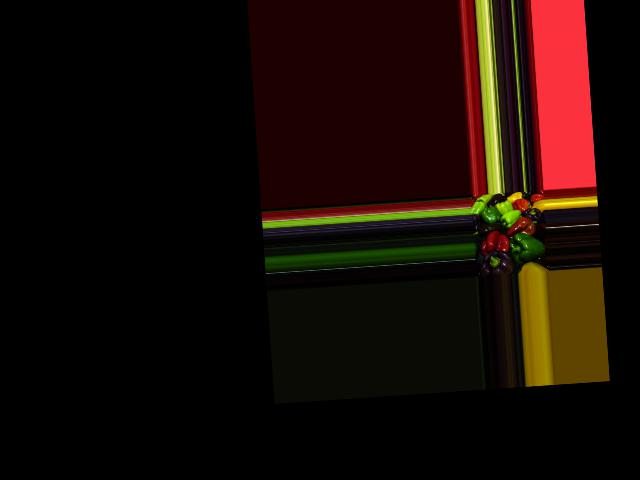bell_pepper: (522, 204, 543, 223)
